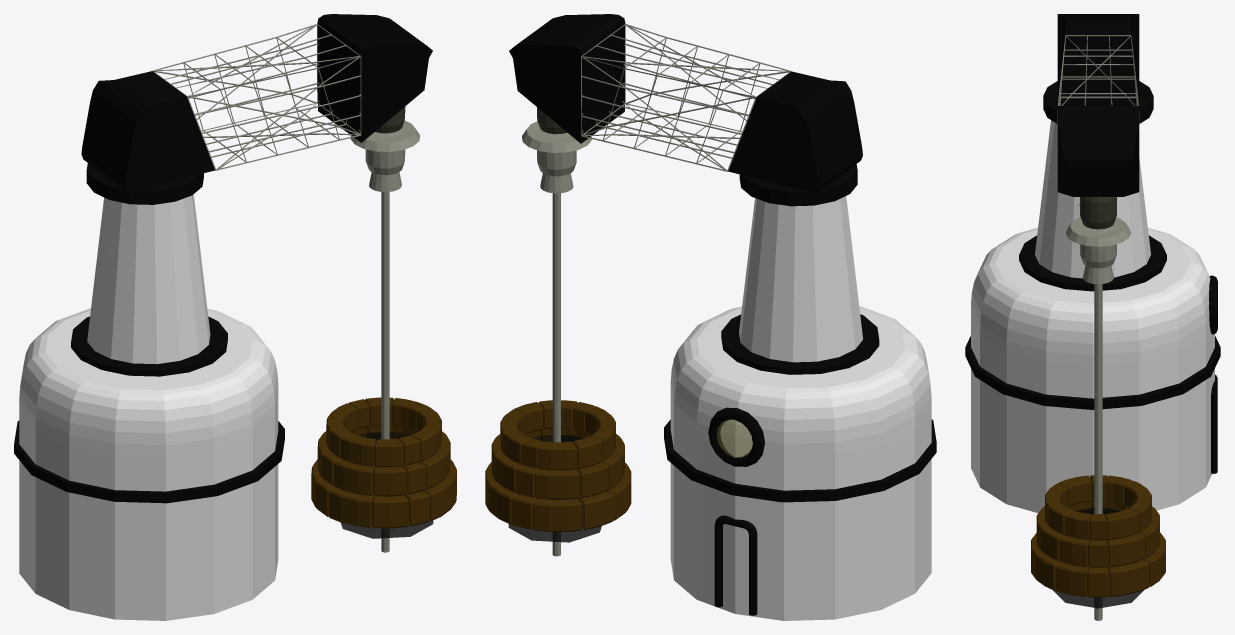
Rendered from Querry.fbx.
3 renders of one model, left to right at view 1: azimuth 30°, elevation 25°; view 2: azimuth 150°, elevation 25°; view 3: azimuth 270°, elevation 25°, orthographic. The views are drawn at different scales.
Parts seen in each view (by area): view 1: Base, QuerryHook, holeStones, Puller, Rope, hole; view 2: Base, QuerryHook, holeStones, Window, Puller, Rope, Door, hole; view 3: Base, QuerryHook, holeStones, Puller, Rope, RopeHolder, hole, Door, Window.
Part boxes in pixels (<box>): Base: <box>14,194,284,620</box>; QuerryHook: <box>81,14,432,204</box>; holeStones: <box>311,397,456,528</box>; Puller: <box>350,120,420,192</box>; Rope: <box>381,192,389,552</box>; hole: <box>340,431,433,538</box>; Base: <box>664,196,936,620</box>; QuerryHook: <box>509,14,862,206</box>; holeStones: <box>485,400,631,531</box>; Window: <box>708,407,764,466</box>; Puller: <box>522,121,591,193</box>; Rope: <box>552,193,560,556</box>; Door: <box>714,515,757,615</box>; hole: <box>508,435,601,542</box>; Base: <box>965,120,1220,512</box>; QuerryHook: <box>1043,14,1153,196</box>; holeStones: <box>1031,475,1165,597</box>; Puller: <box>1066,217,1130,284</box>; Rope: <box>1094,284,1102,620</box>; RopeHolder: <box>1079,197,1116,229</box>; hole: <box>1053,508,1143,608</box>; Door: <box>1211,375,1217,473</box>; Window: <box>1209,275,1217,334</box>.
Size of the model in its own units: 111 by 134 by 62.71.
